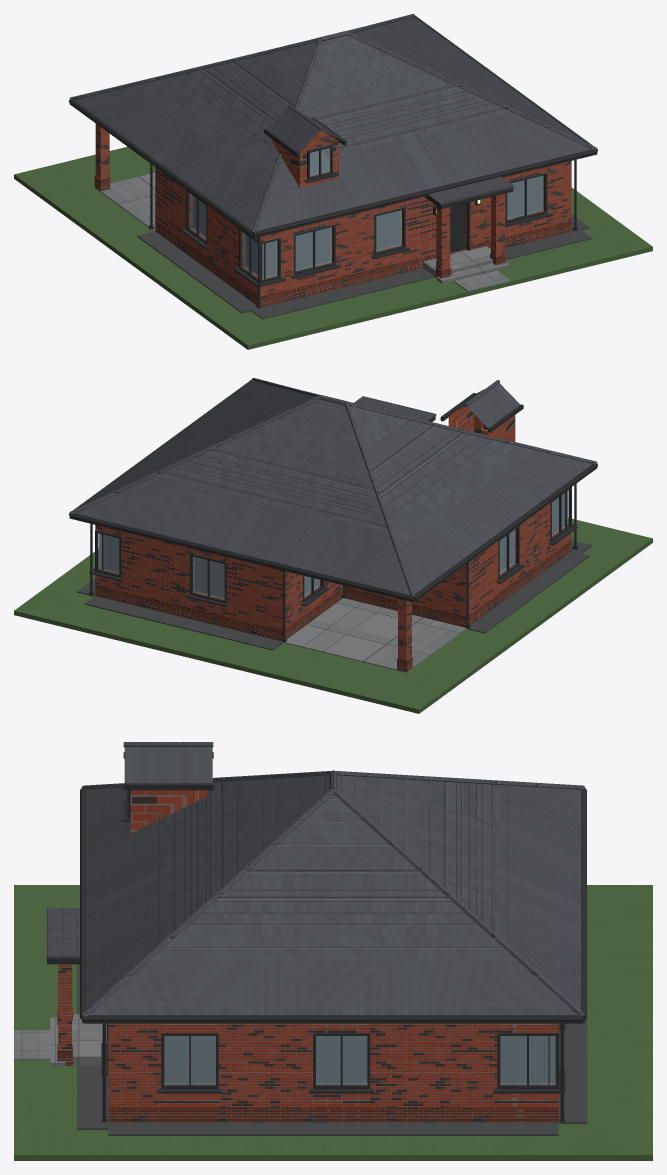
File: khoroshiy-dom-type5.glb
3 views of the same model, one above another, from view 1: azimuth 30°, elevation 25°; view 2: azimuth 150°, elevation 25°; view 3: azimuth 270°, elevation 25° (orthographic). The views are drawn at different scales.
Visible parts, largest first — view 1: Khoroshiy_Dom_Type_5; view 2: Khoroshiy_Dom_Type_5; view 3: Khoroshiy_Dom_Type_5.
Part boxes in pixels (left/top/right/bottom): Khoroshiy_Dom_Type_5: left=14, top=14, right=652, bottom=349; Khoroshiy_Dom_Type_5: left=14, top=378, right=652, bottom=713; Khoroshiy_Dom_Type_5: left=14, top=742, right=652, bottom=1160.
Bounding box in the file's own units: 15.6 × 6.65 × 15.6.
6 materials, 4 textured.
